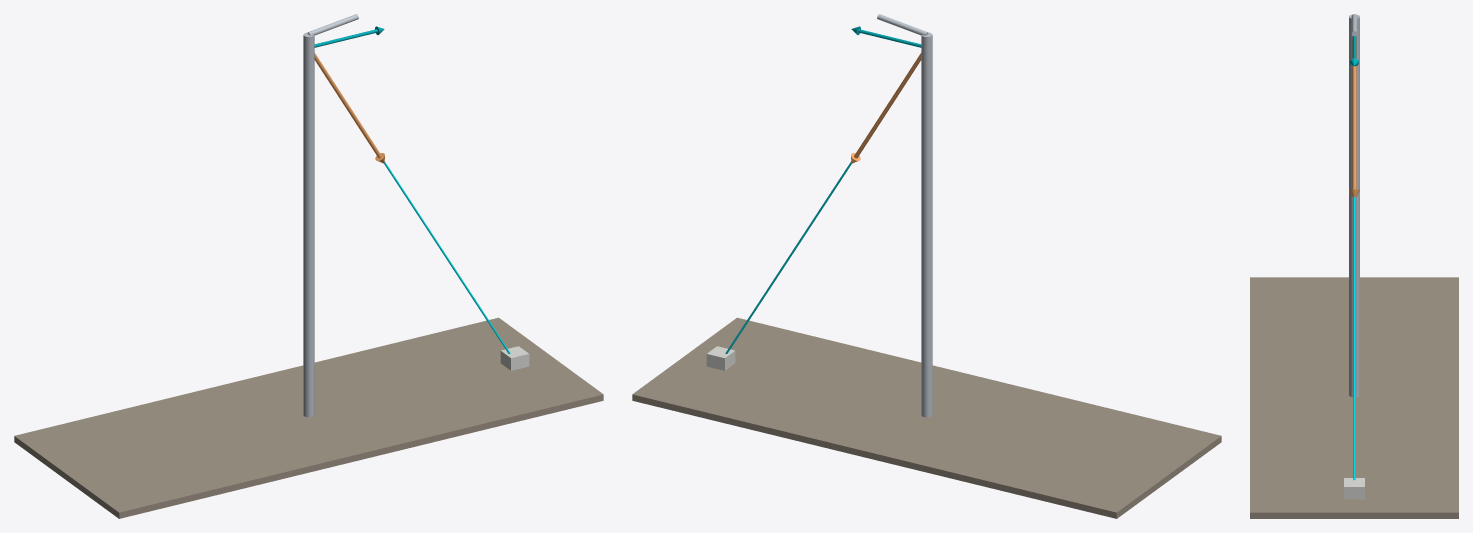
File: ar-bab01-tiang-kabel.glb
The picture shows the model from 3 angles, left to right: view 1: azimuth 30°, elevation 25°; view 2: azimuth 150°, elevation 25°; view 3: azimuth 270°, elevation 25°; orthographic projection.
Parts seen in each view (by area): view 1: geometry_0, geometry_1; view 2: geometry_0, geometry_1; view 3: geometry_0, geometry_1, geometry_3, geometry_5, geometry_4.
Boxes of the visible parts, bbox=[...] form: geometry_0: bbox=[14, 317, 603, 518]; geometry_1: bbox=[303, 32, 314, 417]; geometry_0: bbox=[632, 317, 1221, 518]; geometry_1: bbox=[921, 32, 932, 417]; geometry_0: bbox=[1250, 277, 1458, 518]; geometry_1: bbox=[1349, 14, 1359, 397]; geometry_3: bbox=[1353, 197, 1355, 480]; geometry_5: bbox=[1352, 39, 1356, 189]; geometry_4: bbox=[1344, 478, 1364, 499].
Bounding box in the file's own units: 8 × 6.24 × 3.
